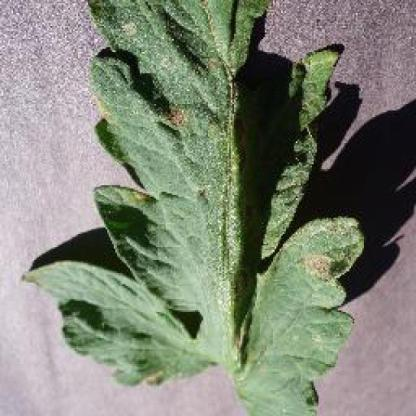Tomato_Blight: (23, 0, 362, 416)
